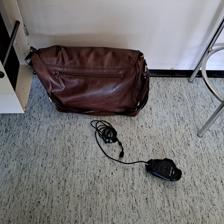mouse: (145, 157, 182, 182)
